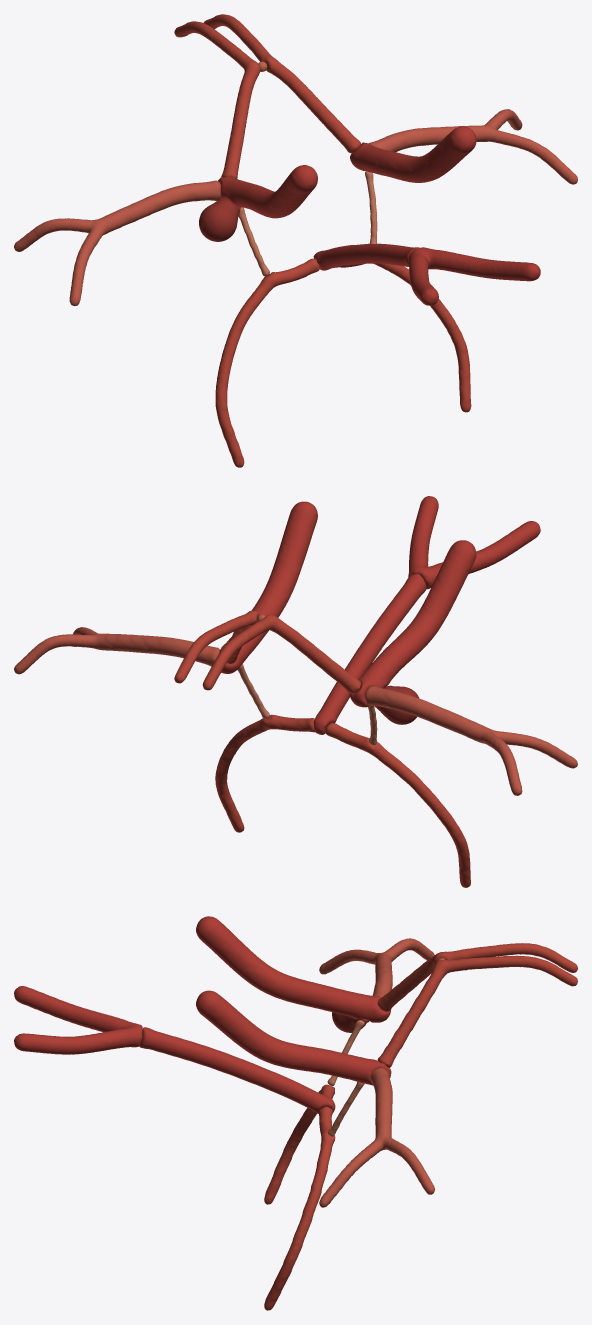
The model's file is willis_pcom_aneurysm.glb.
3 renders of one model, top to bottom at view 1: azimuth 30°, elevation 25°; view 2: azimuth 150°, elevation 25°; view 3: azimuth 270°, elevation 25°, orthographic. The views are drawn at different scales.
Parts seen in each view (by area): view 1: middle_cerebrals, internal_carotids, anterior_cerebrals, posterior_cerebrals, vertebral_arteries, basilar_artery, aneurysm, posterior_communicatings; view 2: internal_carotids, middle_cerebrals, posterior_cerebrals, anterior_cerebrals, basilar_artery, vertebral_arteries, posterior_communicatings, aneurysm; view 3: internal_carotids, anterior_cerebrals, middle_cerebrals, vertebral_arteries, basilar_artery, posterior_cerebrals, posterior_communicatings.
Boxes of the visible parts, x1,y1,x2,y2 form: middle_cerebrals: (14, 109, 577, 306); internal_carotids: (218, 126, 476, 218); anterior_cerebrals: (174, 14, 360, 178); posterior_cerebrals: (215, 258, 471, 467); vertebral_arteries: (408, 247, 540, 305); basilar_artery: (313, 243, 419, 270); aneurysm: (199, 198, 240, 241); posterior_communicatings: (238, 171, 377, 276); internal_carotids: (219, 501, 476, 707); middle_cerebrals: (14, 627, 577, 795); posterior_cerebrals: (215, 714, 470, 887); anterior_cerebrals: (174, 610, 360, 693); basilar_artery: (313, 573, 426, 734); vertebral_arteries: (408, 496, 540, 589); posterior_communicatings: (237, 664, 377, 745); aneurysm: (374, 685, 418, 724); internal_carotids: (196, 916, 391, 1085); anterior_cerebrals: (377, 943, 577, 1067); middle_cerebrals: (319, 938, 434, 1207); vertebral_arteries: (14, 986, 142, 1054); basilar_artery: (139, 1027, 335, 1113); posterior_cerebrals: (264, 1084, 335, 1310); posterior_communicatings: (327, 1020, 364, 1136).
Size of the model in its own units: 17.9 by 10.8 by 17.99.
